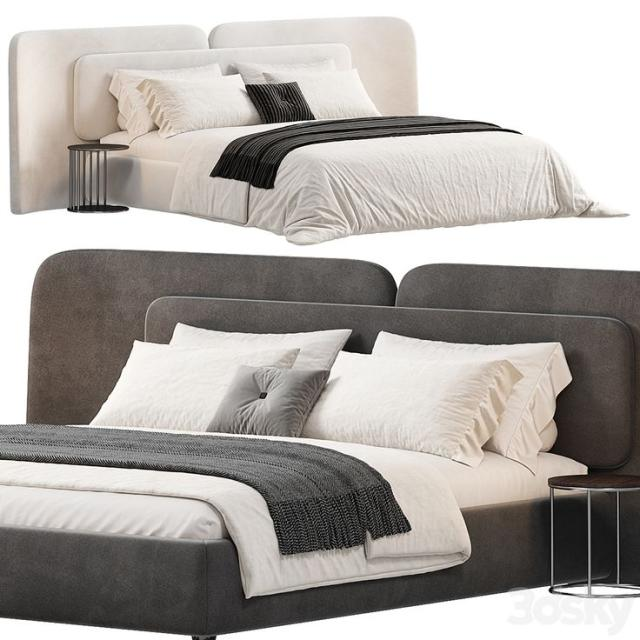obstacle: (0, 248, 639, 638), (8, 16, 629, 244), (547, 472, 639, 598), (66, 142, 129, 212)
